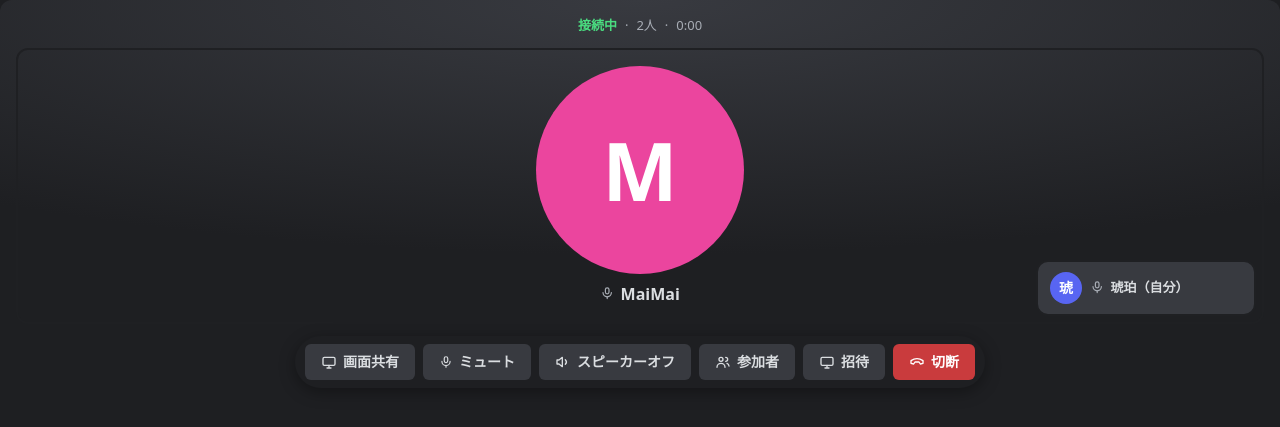
Test: 通話ステージ（DM通話とVCの共通部品） › 招待はリンクをコピーして案内を出す
Click the button with aria-label "招待リンクをコピー": (844, 362) [803,344,885,380]
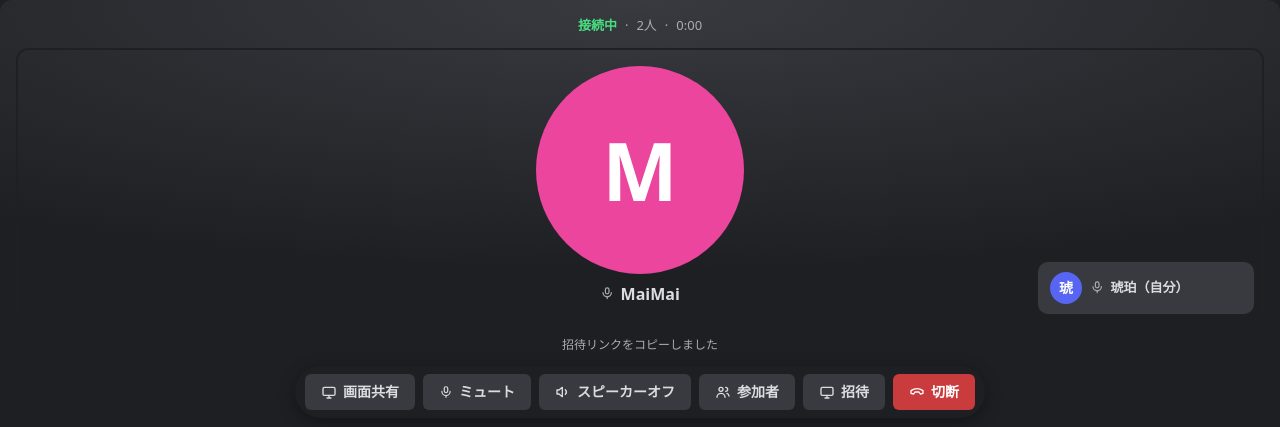
Expected: the message reads "招待リンクをコピーしました", [562,336,718,352]
